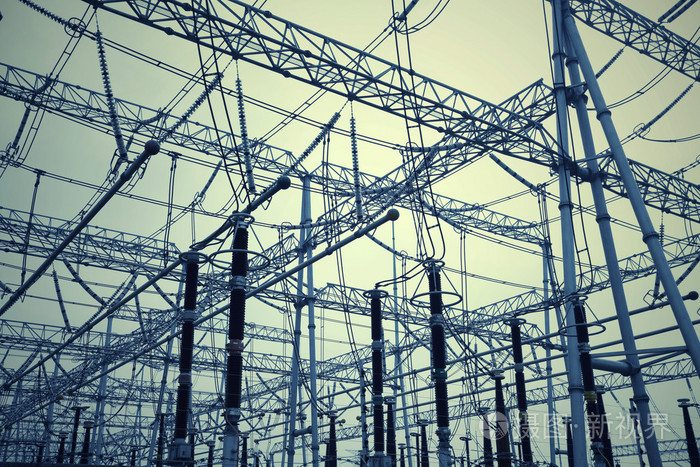insulator: (95, 28, 129, 160), (159, 74, 222, 143), (280, 111, 342, 177), (235, 78, 257, 191), (347, 116, 367, 219), (19, 1, 80, 30)
